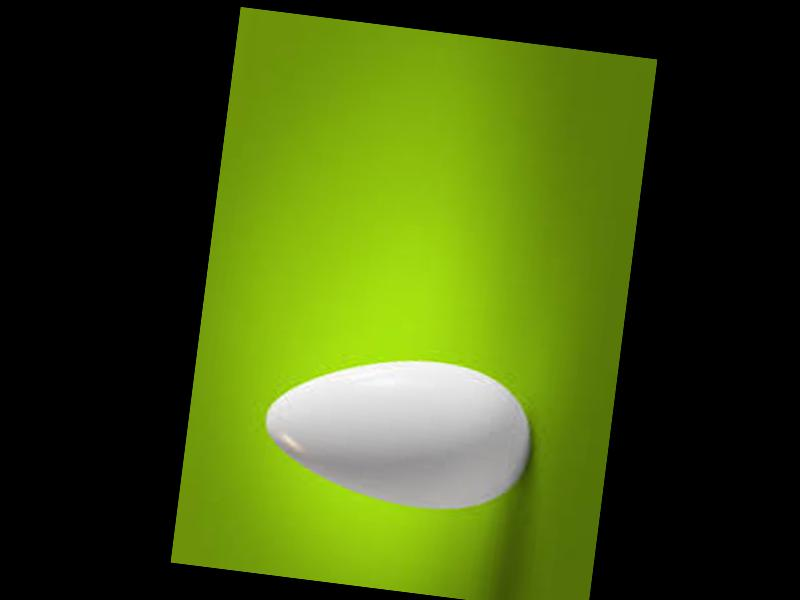Eggs: (253, 341, 537, 519)
